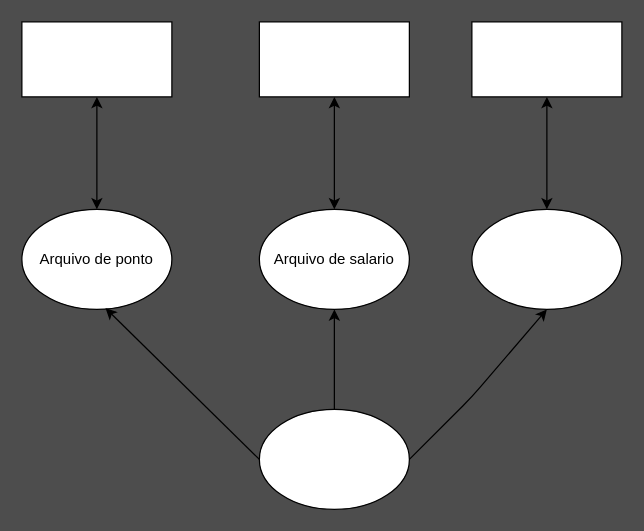
This 644x531 diagram has some shape labels left out. The centre of each missing label's shape, as x and y in pixels:
"Dados do Funcionario" goes at (333,458).
"Sistema de Controle de Ponto" goes at (96,59).
